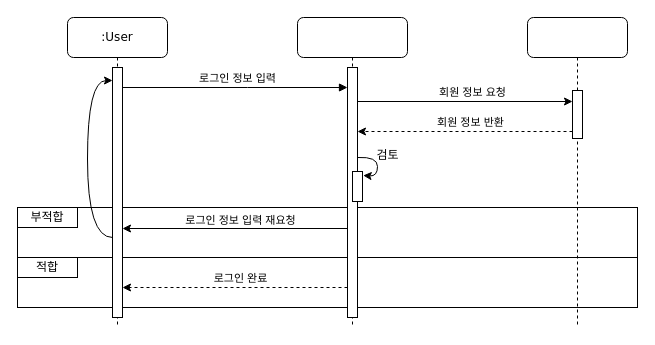
This 655x345 diagram has some shape labels left out. The box of each missing label's shape, as (x1, y1, x2, y2) in pixels:
:Database: (526, 16, 628, 328)
:System: (296, 16, 408, 328)
